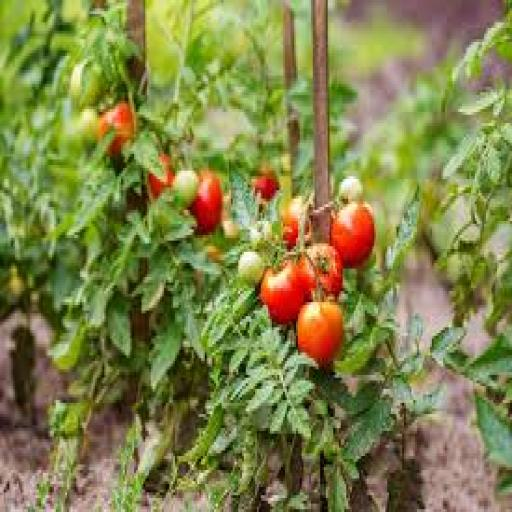tomato: (297, 303, 342, 369), (332, 202, 374, 268), (261, 263, 305, 324), (298, 244, 342, 299), (190, 171, 223, 235), (99, 101, 135, 156), (69, 62, 102, 106), (282, 196, 307, 249), (149, 154, 175, 198), (174, 171, 199, 207), (239, 252, 264, 285), (254, 171, 279, 201), (77, 107, 98, 142), (339, 177, 363, 201), (250, 222, 271, 246), (222, 219, 240, 240), (205, 244, 223, 262)
